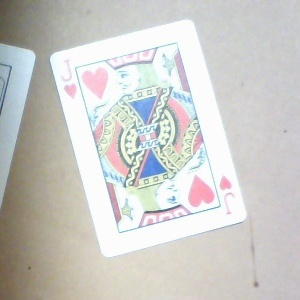card: (50, 17, 249, 258)
